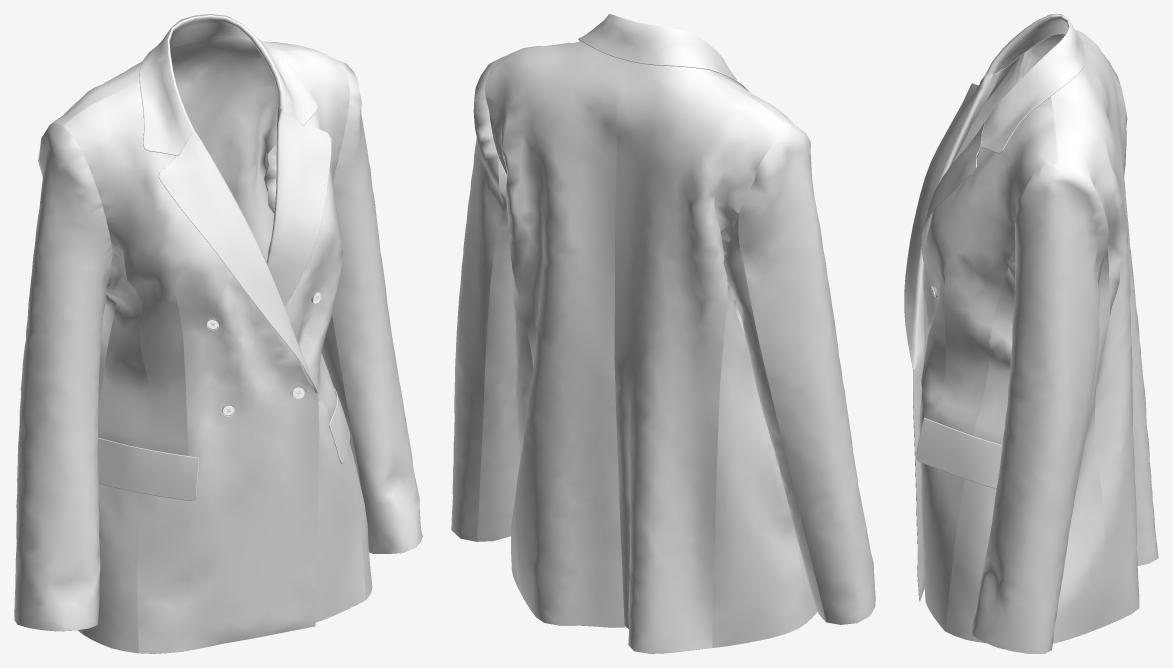
Rendered from FV2 Double-Breasted Jacket_gltf_thick.glb.
3 views of the same model, side by side, from view 1: azimuth 30°, elevation 25°; view 2: azimuth 150°, elevation 25°; view 3: azimuth 270°, elevation 25° (orthographic). The views are drawn at different scales.
Parts seen in each view (by area): view 1: Cloth (×17); view 2: Cloth (×9); view 3: Cloth (×13).
Boxes of the visible parts, x1,y1,x2,y2 form: Cloth (×17): (14,14,422,653); Cloth (×9): (451,14,875,653); Cloth (×13): (904,14,1158,653).
Size of the model in its own units: 54.46 by 74.48 by 30.77.
1 material, 1 textured.
